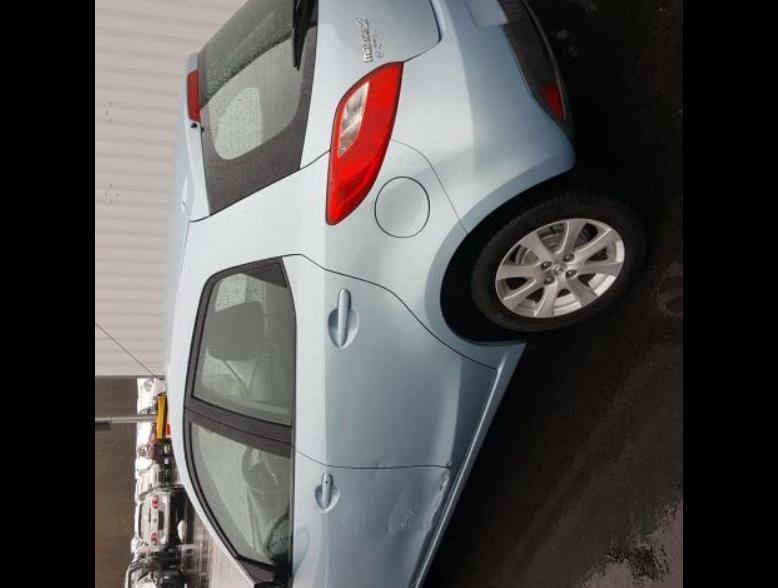Corrosion: (426, 453, 463, 535), (399, 505, 425, 535)
Dent: (331, 474, 384, 539), (384, 484, 426, 539), (371, 453, 398, 478), (438, 462, 453, 491), (432, 496, 443, 527)
